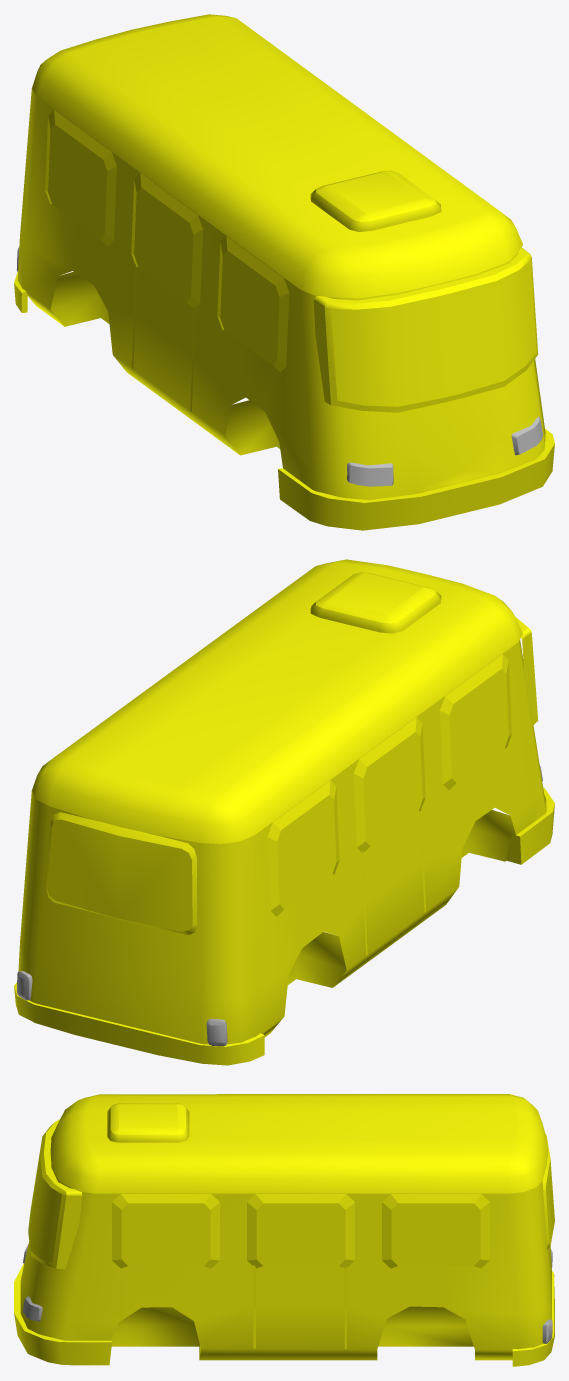
3 views of the same model, one above another, from view 1: azimuth 30°, elevation 25°; view 2: azimuth 150°, elevation 25°; view 3: azimuth 270°, elevation 25° (orthographic). The views are drawn at different scales.
Parts seen in each view (by area): view 1: Van_roof__Removable__color, Van_body_color, kinh_b_1, kinh_b_2; view 2: Van_body_color, Van_roof__Removable__color, kinh_b_2, kinh_b_3, kinh_b_1; view 3: Van_body_color, Van_roof__Removable__color, kinh_b_2, kinh_b_1, kinh_b_3.
Part boxes in pixels (x1,y1,x2,y2): Van_roof__Removable__color: [32, 14, 522, 298]; Van_body_color: [14, 89, 554, 530]; kinh_b_1: [313, 247, 538, 412]; kinh_b_2: [45, 110, 289, 372]; Van_body_color: [14, 640, 554, 1065]; Van_roof__Removable__color: [32, 559, 522, 844]; kinh_b_2: [267, 654, 511, 916]; kinh_b_3: [46, 812, 197, 934]; kinh_b_1: [516, 617, 538, 725]; Van_body_color: [14, 1166, 554, 1366]; Van_roof__Removable__color: [50, 1094, 548, 1193]; kinh_b_2: [112, 1194, 489, 1268]; kinh_b_1: [28, 1119, 82, 1269]; kinh_b_3: [542, 1134, 554, 1249].
Bounding box in the file's own units: 1.32 × 1.37 × 3.26.
Materials: 2 (1 with a texture image).
